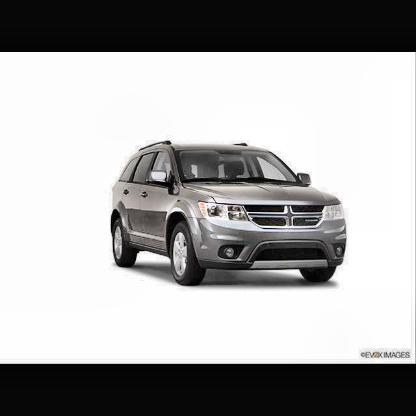Dodge Journey SUV 2012: (112, 142, 348, 290)
